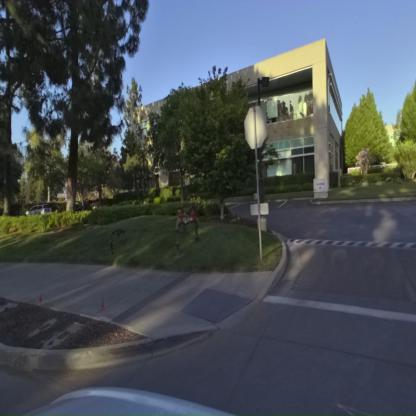car: (26, 203, 60, 216)
